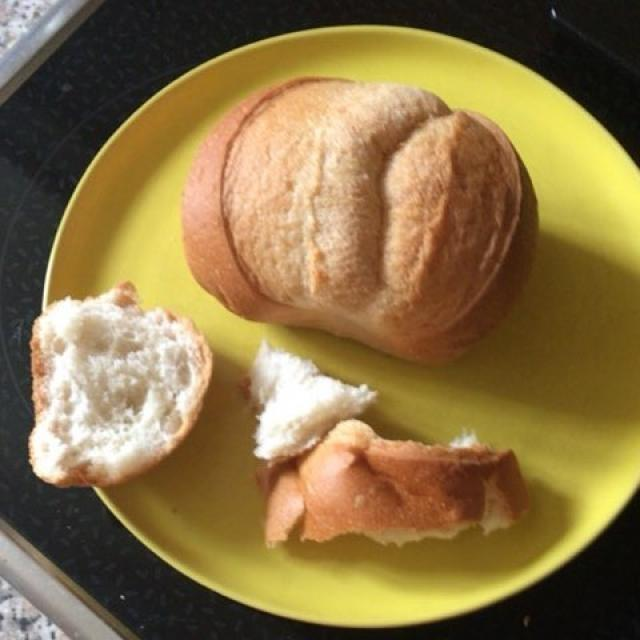bread: (23, 83, 537, 550)
